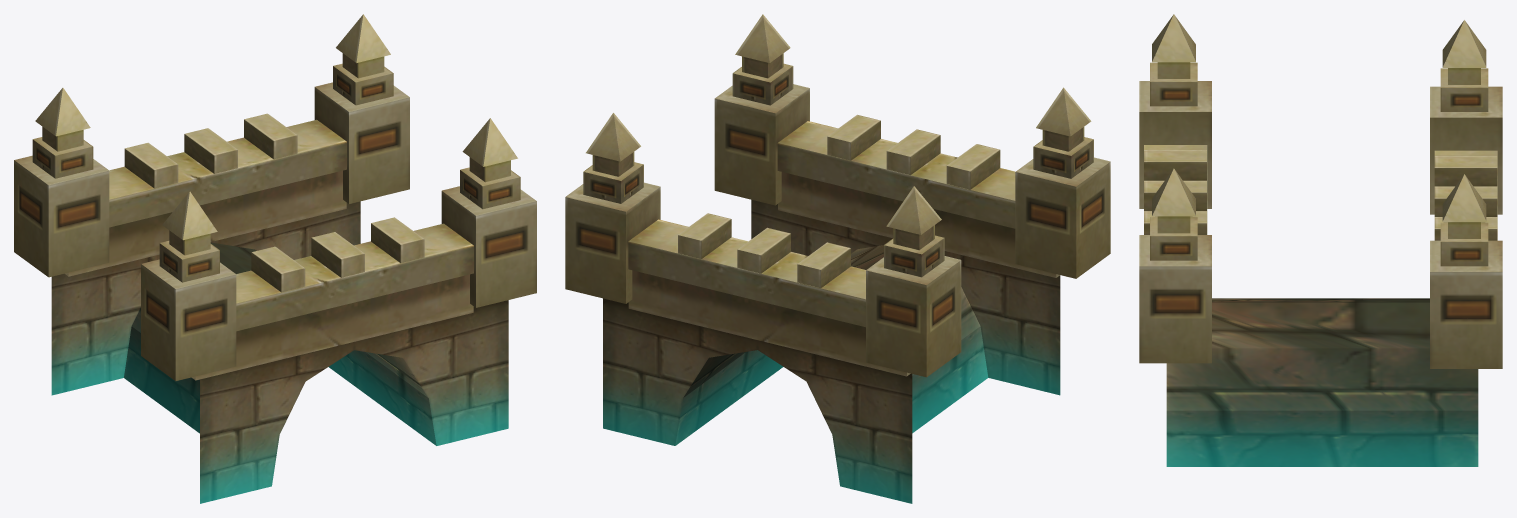
The model's file is qiao01.FBX.
3 renders of one model, left to right at view 1: azimuth 30°, elevation 25°; view 2: azimuth 150°, elevation 25°; view 3: azimuth 270°, elevation 25°, orthographic. The views are drawn at different scales.
Visible parts, largest first — view 1: qiao01; view 2: qiao01; view 3: qiao01.
Part boxes in pixels (box(x1,y1,x2,y2)): qiao01: box(14, 14, 536, 503); qiao01: box(565, 14, 1110, 503); qiao01: box(1139, 14, 1502, 466).
Bounding box in the file's own units: 19.38 × 15.52 × 15.56.
